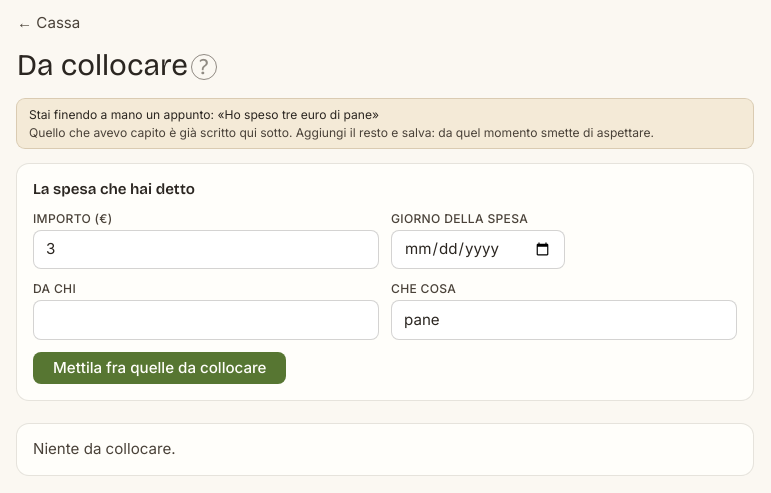
Test: Da collocare — «Fallo a mano» di una spesa detta › un doppio tocco mentre salva manda una chiamata sola
Expected: the field showing "pane" is shown, [391,300,737,340]
Click the button "Mettila fra quelle da collocare".
click(160, 368)  # box [33,352,286,384]
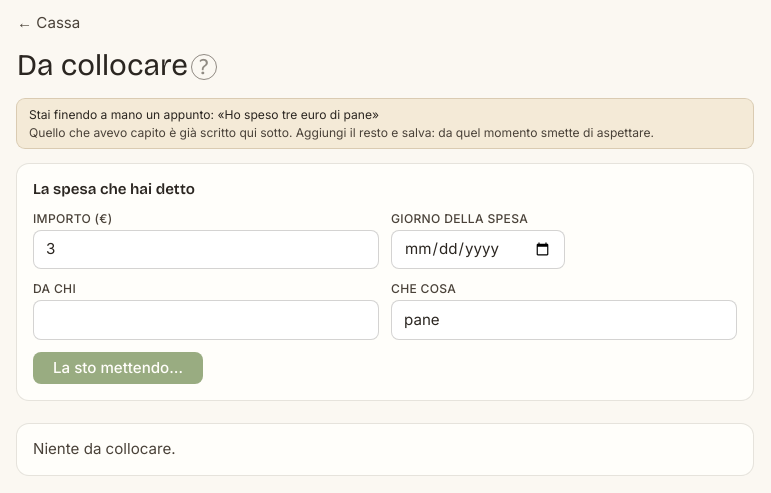
Click the button named "Mettila fra quelle da collocare".
click(118, 368)  # box [33,352,203,384]
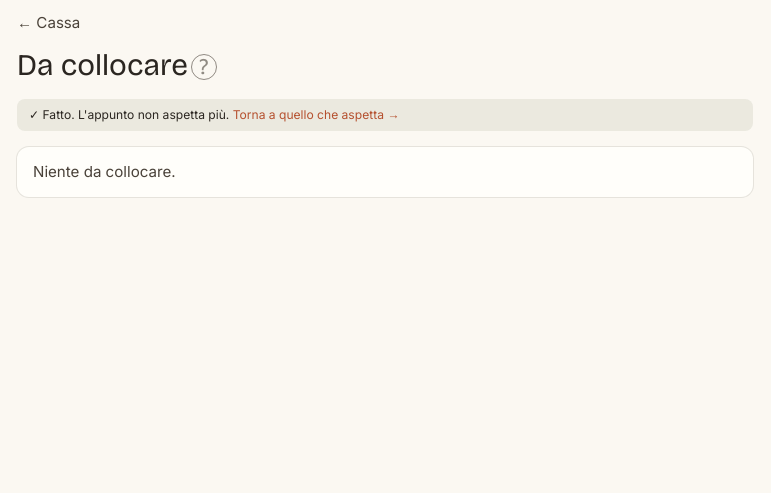
Result: the text "L'appunto non aspetta più" is shown at [29,107,229,122]
